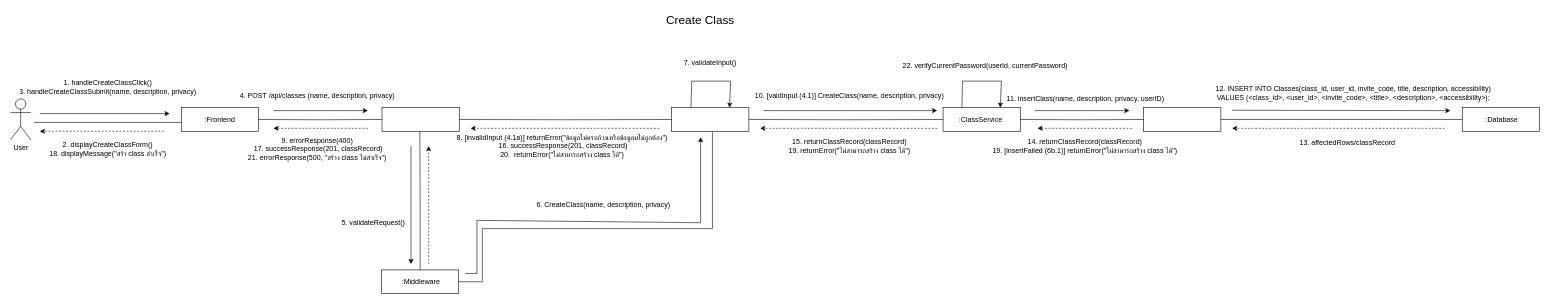
Some shapes in this 1550 by 304 pixel diagram are drawn without their labels. Here are the shapes that lost their labels. From the top down, the centre of each, then its label:
At point (420, 119): ":Router".
At point (710, 119): ":ClassController".
At point (1182, 119): ":ClassRepository".
